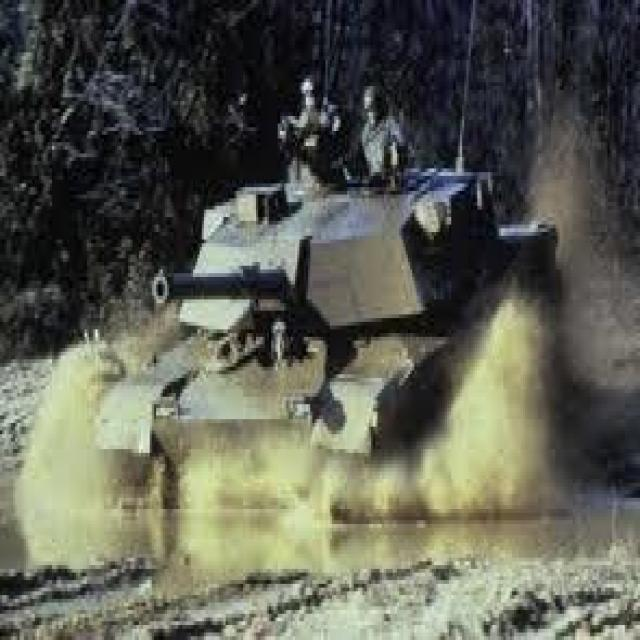Tanks: (95, 189, 562, 526)
